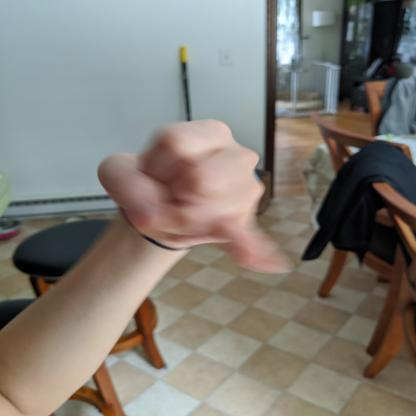J: (90, 112, 302, 282)
